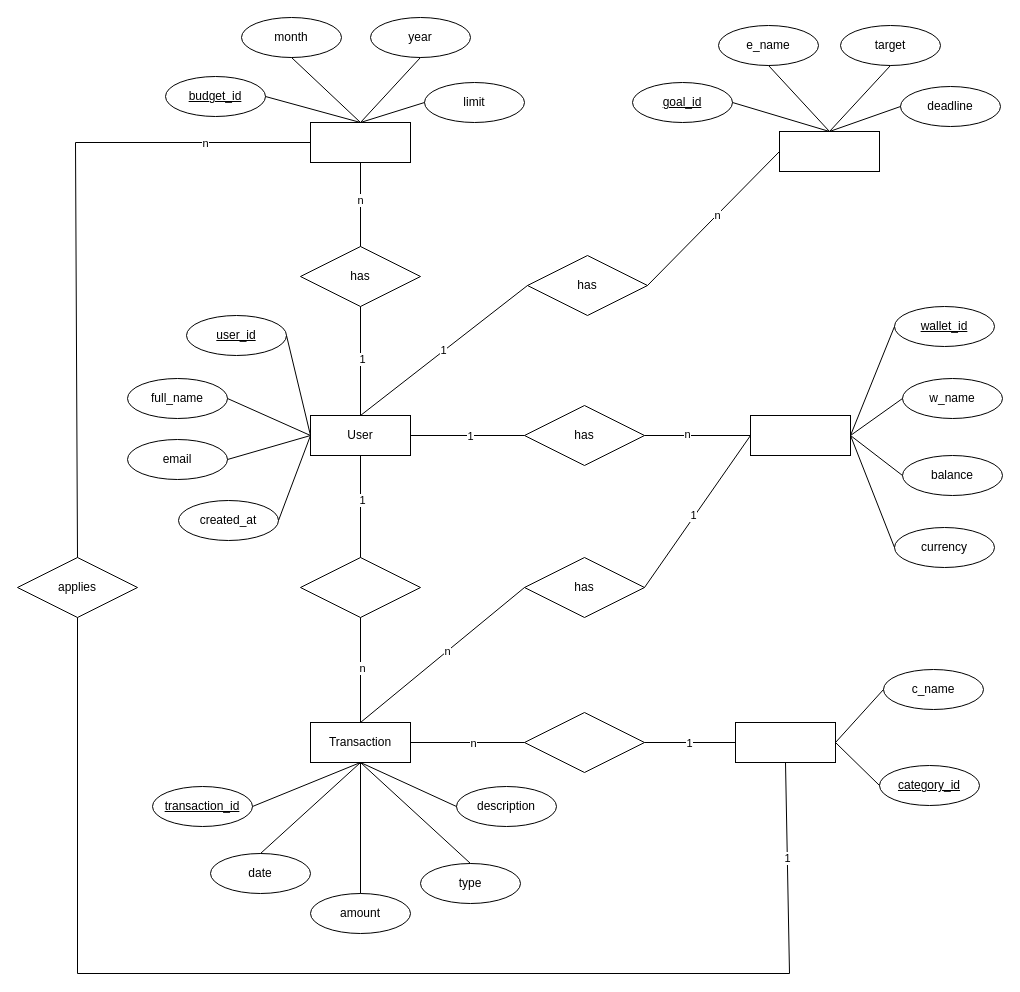
Image size: 1020x992. Some labels were removed from this diagram. Here are the shapes that lost their labels. From the top down, the box of each, then its label:
(310, 122, 410, 162): Budget
(778, 130, 880, 172): Goal
(750, 414, 850, 456): Wallet
(300, 556, 420, 618): makes
(524, 712, 644, 772): includes
(734, 722, 836, 762): Category
